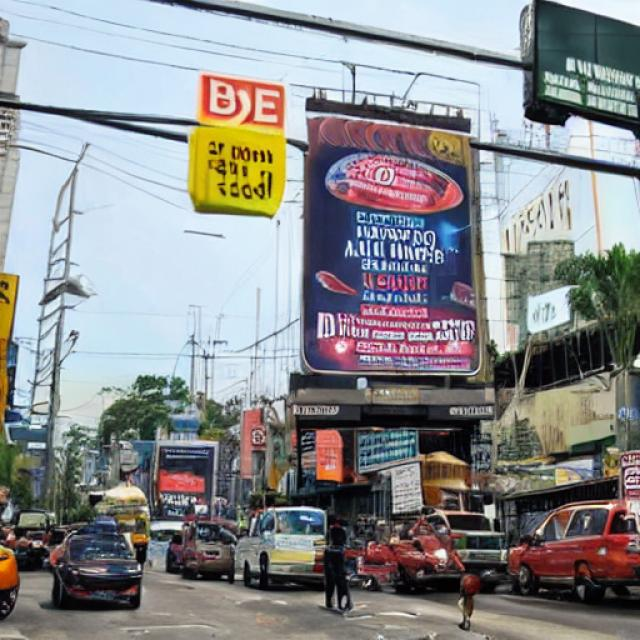Billboard: (302, 96, 488, 402)
